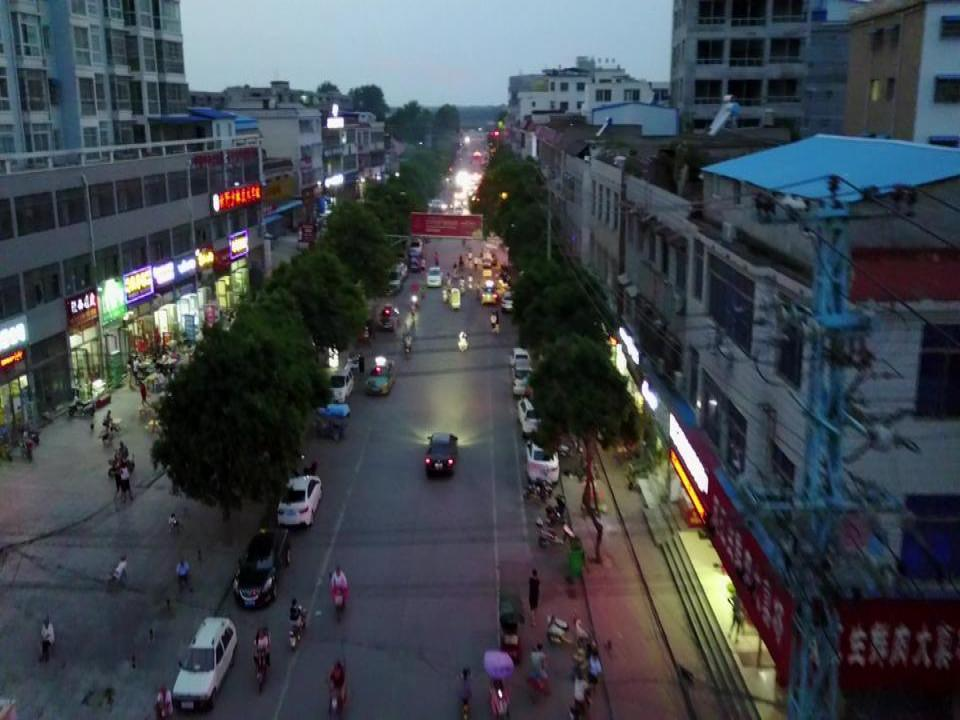car: (173, 618, 238, 710), (233, 527, 292, 608), (277, 473, 323, 527), (525, 438, 560, 482), (425, 432, 458, 473), (320, 368, 354, 403), (364, 357, 395, 395), (518, 397, 550, 432), (377, 304, 400, 331), (383, 268, 402, 292), (481, 281, 498, 304), (426, 266, 443, 286), (500, 292, 517, 311), (392, 261, 407, 279), (408, 239, 422, 256), (481, 262, 492, 278)
van: (511, 361, 535, 396), (510, 348, 530, 375)
